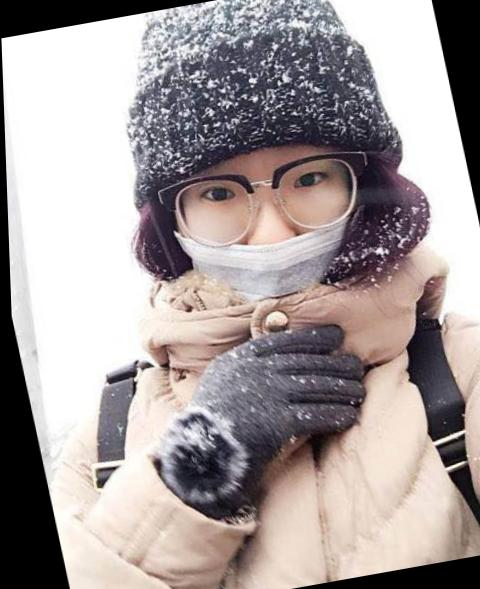WRONG: (157, 117, 378, 332)
